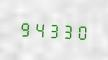four: (32, 18, 45, 39)
nine: (18, 18, 31, 38)
three: (46, 19, 59, 40), (60, 20, 73, 41)
zero: (74, 21, 87, 41)
